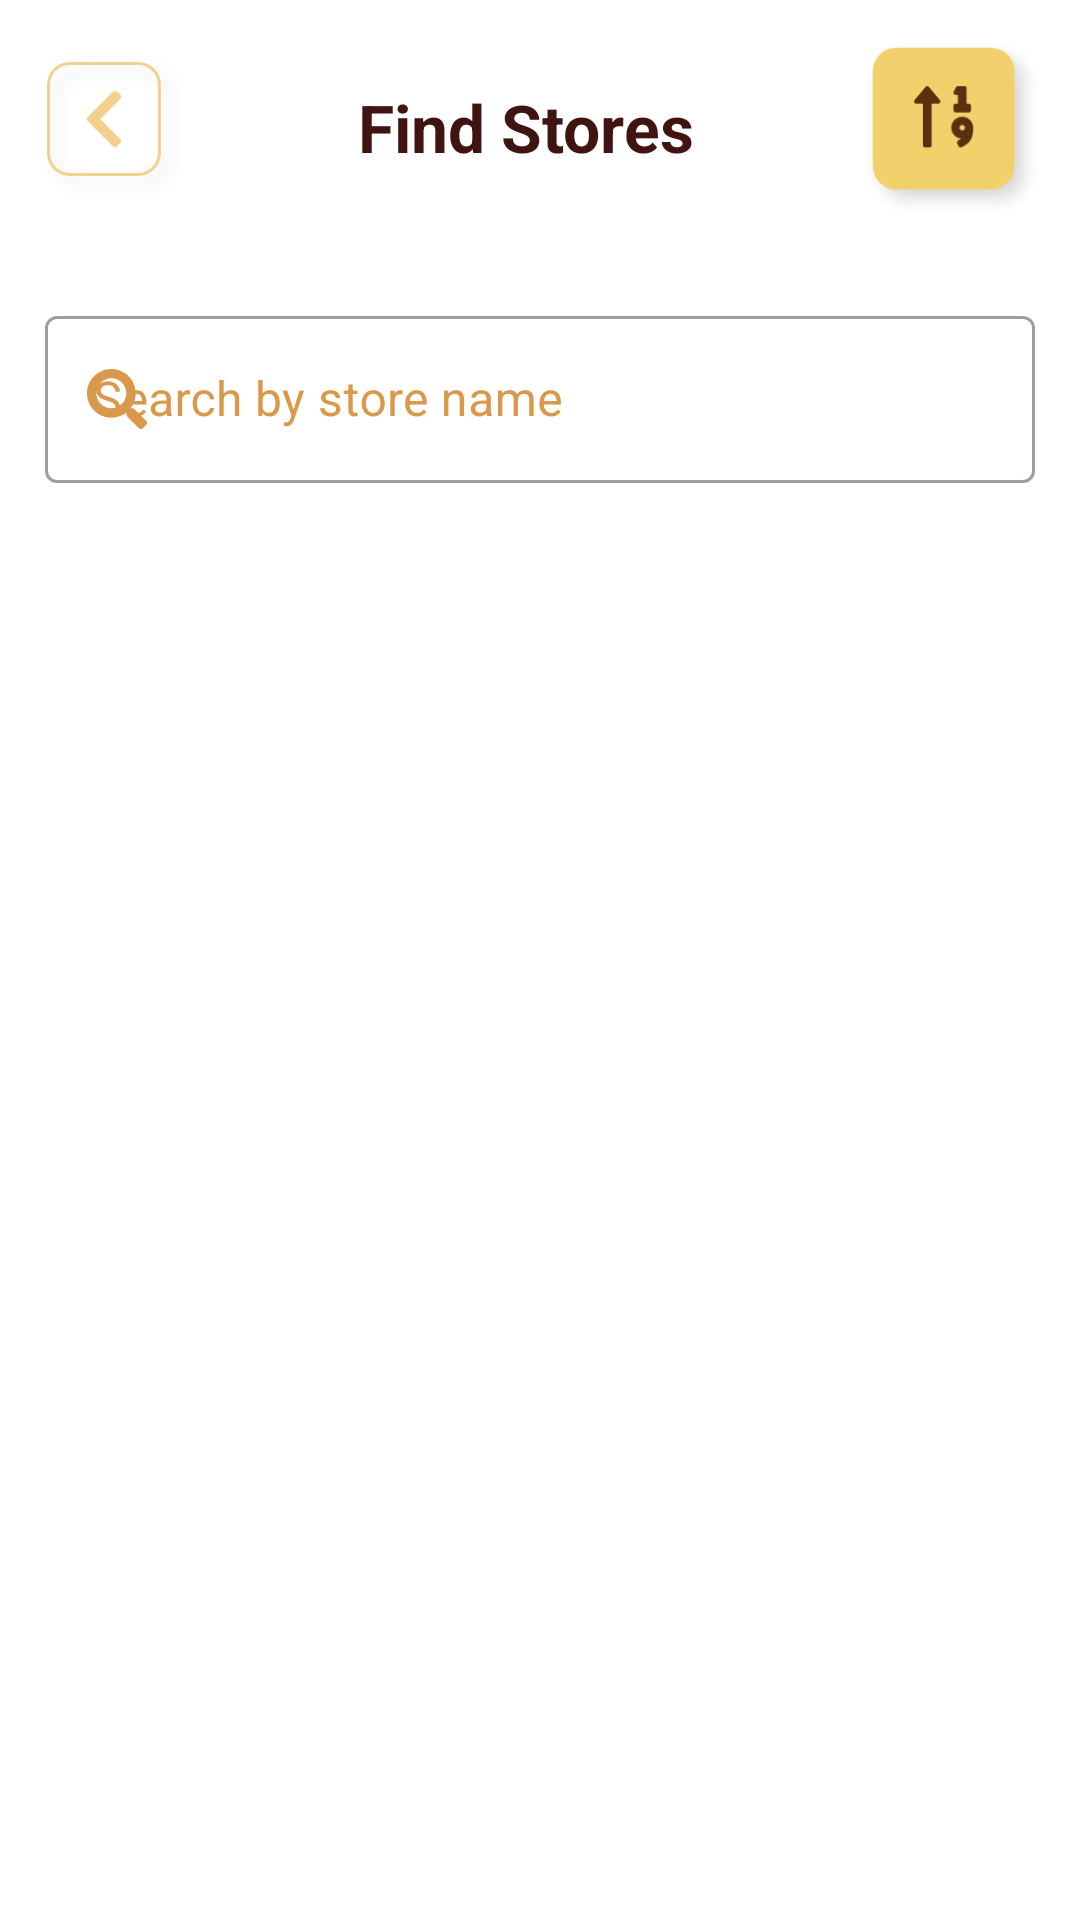

Where to tap for icons on this 1080*1920 app screen, as [x,y]:
backbtn: [104,119]
